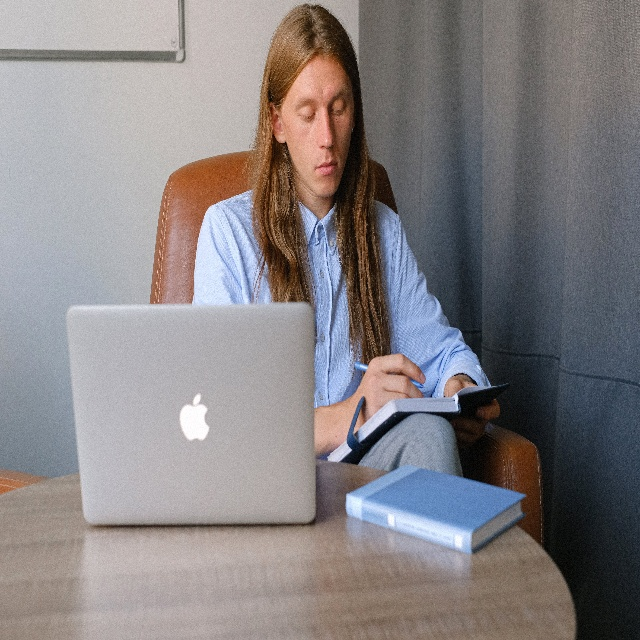Sin_guantes: (341, 353, 430, 435), (445, 377, 499, 443)
